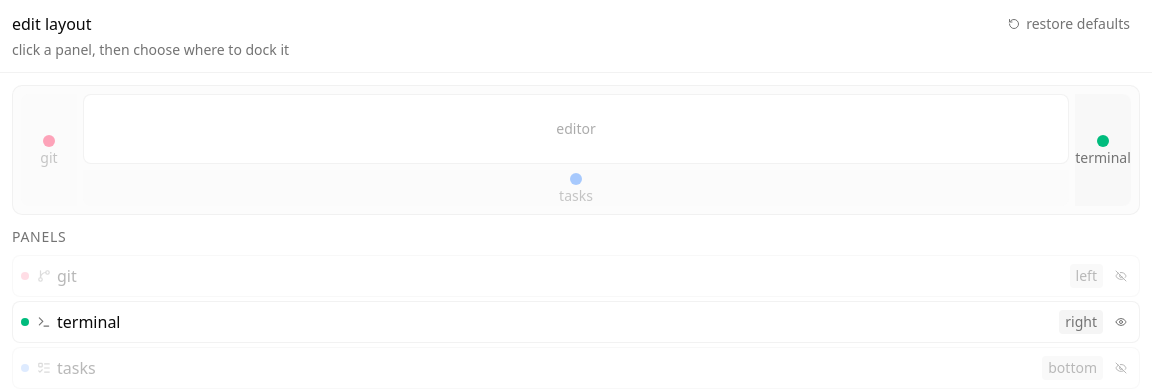
it: restore defaults › clears selection after restoring defaults
The image size is (1152, 391).
# select a panel first
Click the element showing "git left" at (576, 276), box [12, 255, 1140, 297]
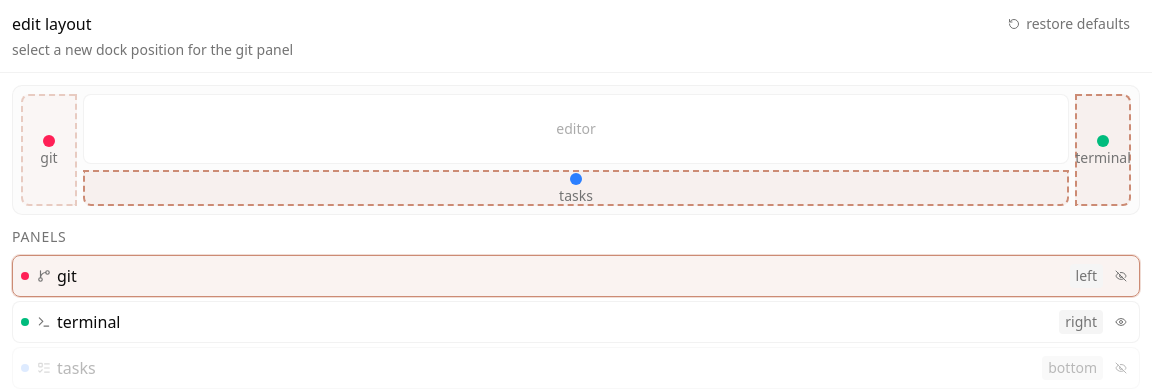
Check: the text "select a new dock position for the git panel" is shown, box [12, 40, 293, 59]
# restore defaults
Click the button "restore defaults" at (1069, 24), box [998, 12, 1140, 36]
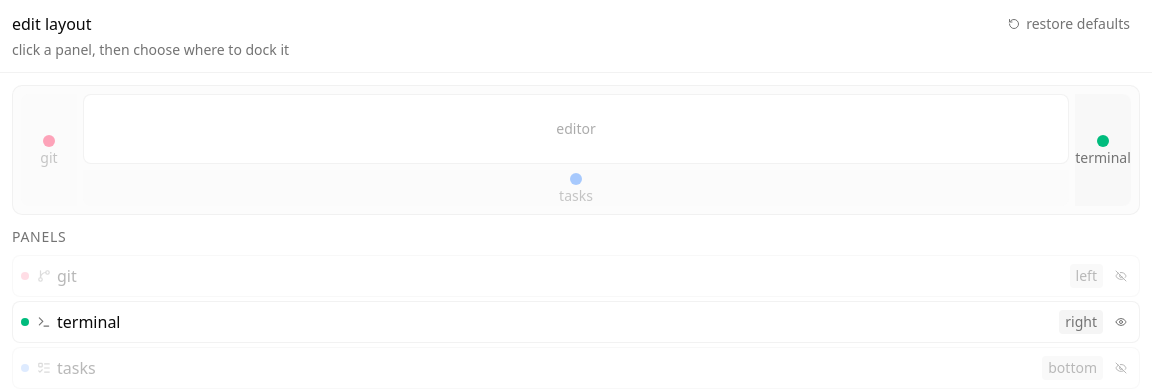
Check: the text "click a panel, then choose where to dock it" is shown, box [12, 40, 289, 59]
